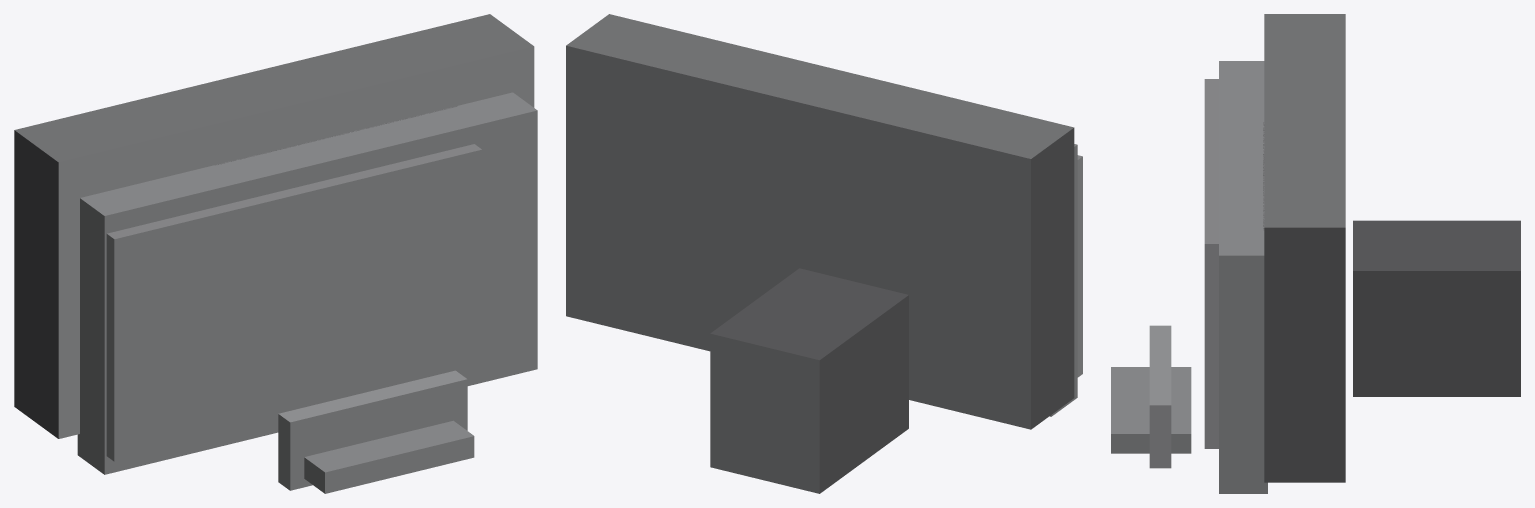
The picture shows the model from 3 angles, left to right: view 1: azimuth 30°, elevation 25°; view 2: azimuth 150°, elevation 25°; view 3: azimuth 270°, elevation 25°; orthographic projection. The views are drawn at different scales.
Size of the model in its own units: 0.4689 by 0.3053 by 0.3801.
